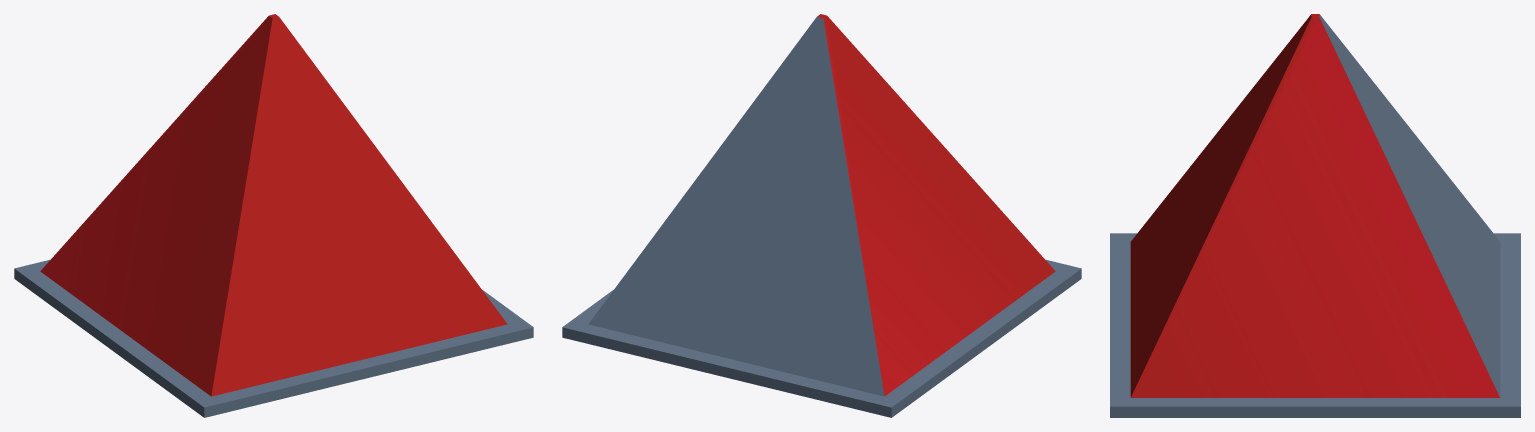
File: Triangle-1.FBX
3 views of the same model, side by side, from view 1: azimuth 30°, elevation 25°; view 2: azimuth 150°, elevation 25°; view 3: azimuth 270°, elevation 25° (orthographic). The views are drawn at different scales.
Parts seen in each view (by area): view 1: Triangle-1; view 2: Triangle-1; view 3: Triangle-1.
Boxes of the visible parts, x1,y1,x2,y2 form: Triangle-1: (14,14,533,417); Triangle-1: (562,14,1081,417); Triangle-1: (1110,14,1520,417).
Size of the model in its own units: 76.36 by 64.69 by 76.36.
